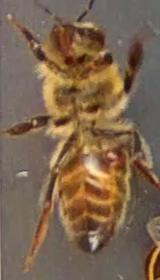varroa_mite: (93, 132, 134, 173)
